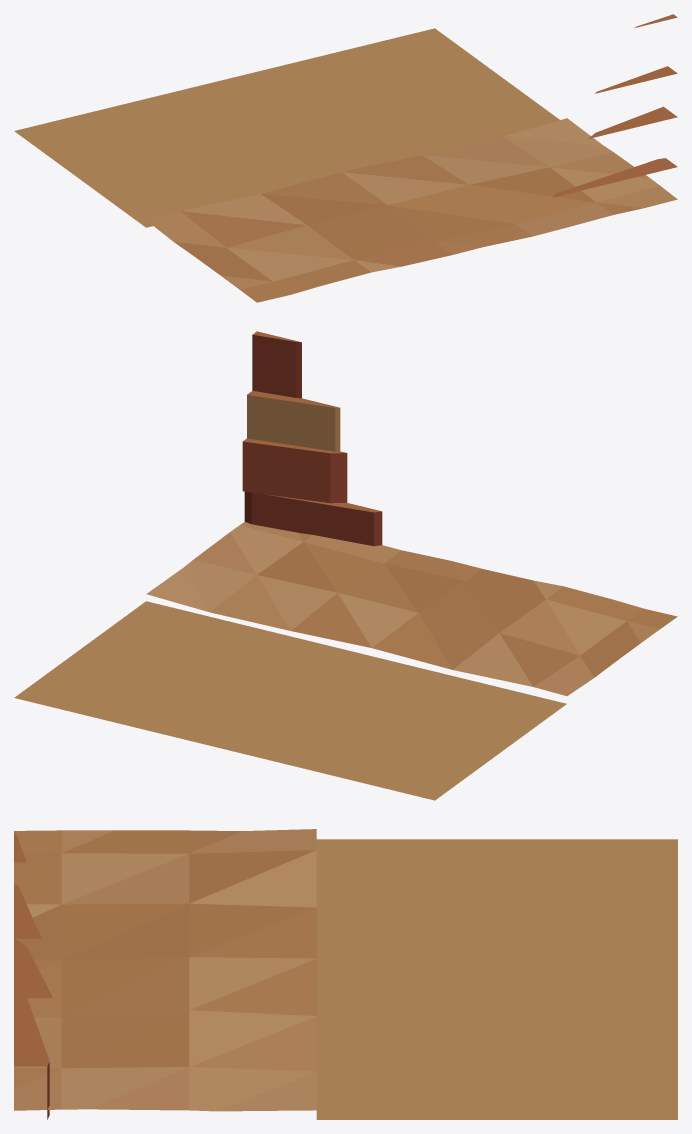
3 renders of one model, top to bottom at view 1: azimuth 30°, elevation 25°; view 2: azimuth 150°, elevation 25°; view 3: azimuth 270°, elevation 25°, orthographic. The views are drawn at different scales.
Visible parts, largest first — view 1: baked; view 2: baked; view 3: baked.
Part boxes in pixels (x1,y1,x2,y2): baked: (14,14,677,302); baked: (14,331,677,800); baked: (14,829,677,1119).
Size of the model in its own units: 62.5 by 26.77 by 62.5.
